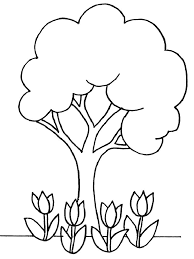tree: (7, 4, 193, 192)
